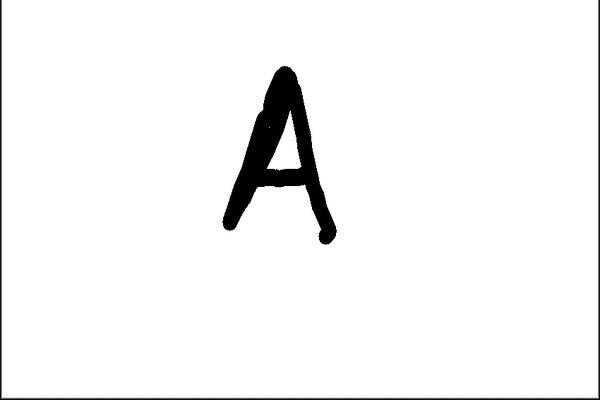A: (216, 61, 340, 250)
